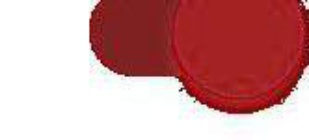Switch: (1, 1, 308, 139)
